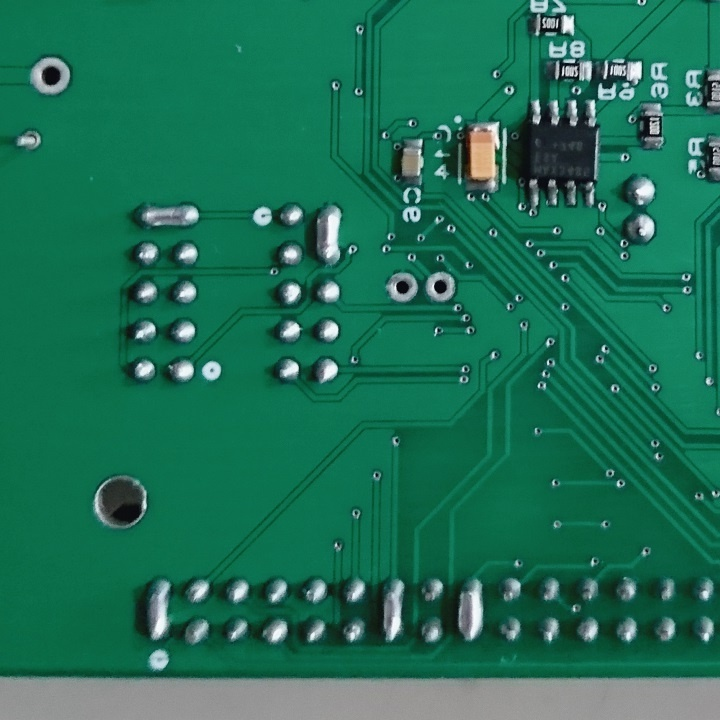F: (27, 52, 73, 100), (423, 268, 458, 309), (382, 269, 418, 306), (13, 124, 43, 154)
P: (453, 575, 487, 647), (310, 201, 345, 269), (130, 200, 203, 232), (143, 574, 173, 649), (378, 575, 406, 650)
